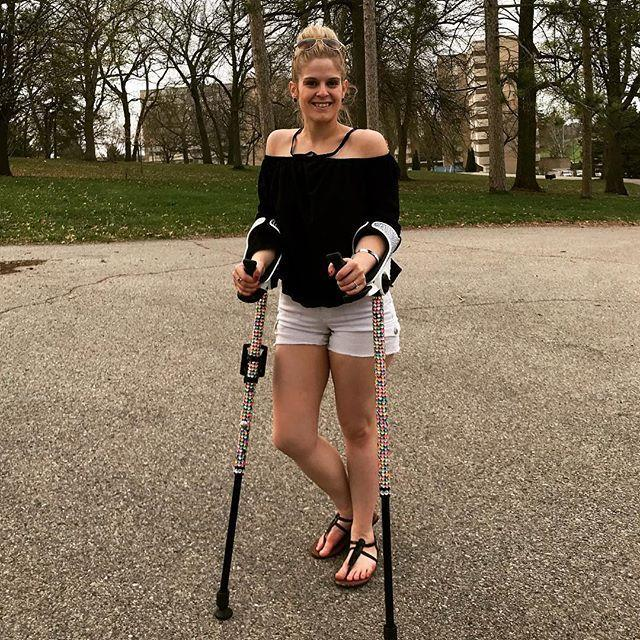crutches: (214, 25, 404, 640)
